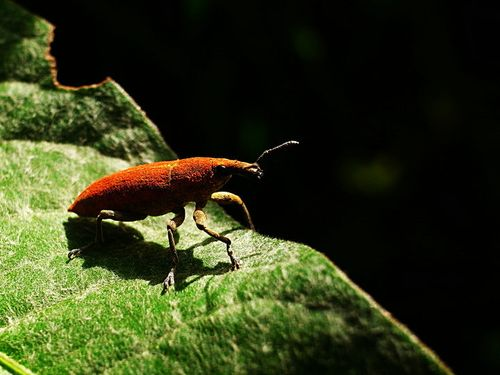Curculionidae: (66, 138, 300, 293)
